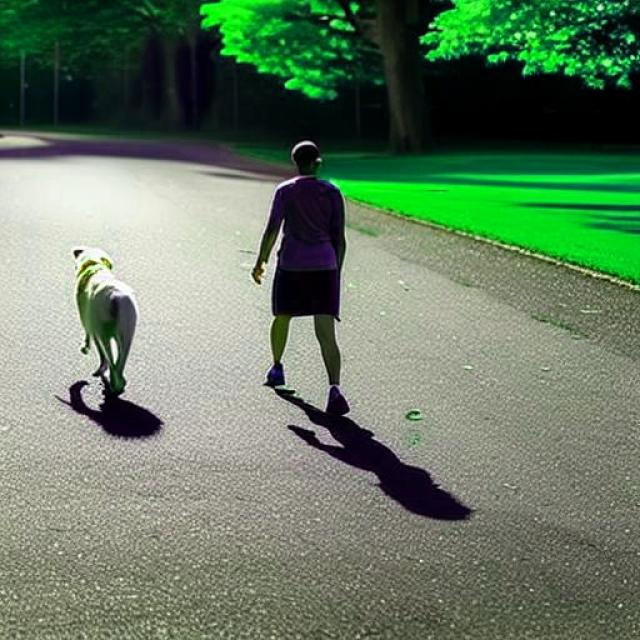Unleashed_Dog: (74, 247, 334, 394)
